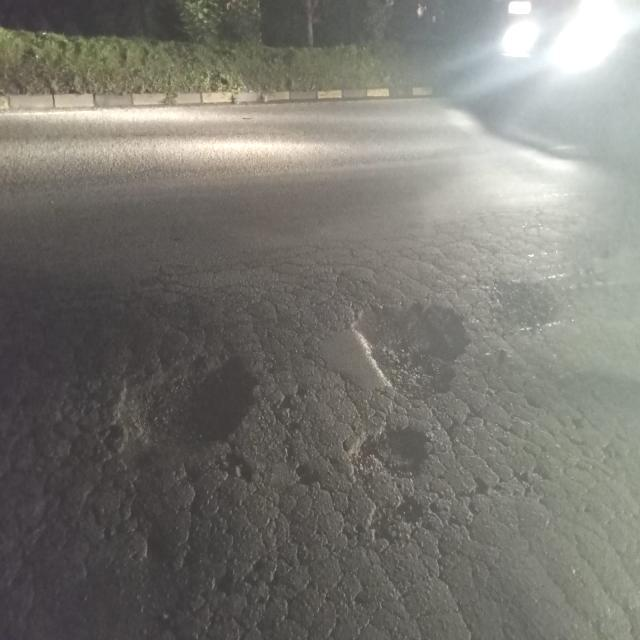Buraco: (112, 349, 262, 475), (348, 297, 474, 403), (344, 418, 436, 488), (363, 488, 435, 548)
